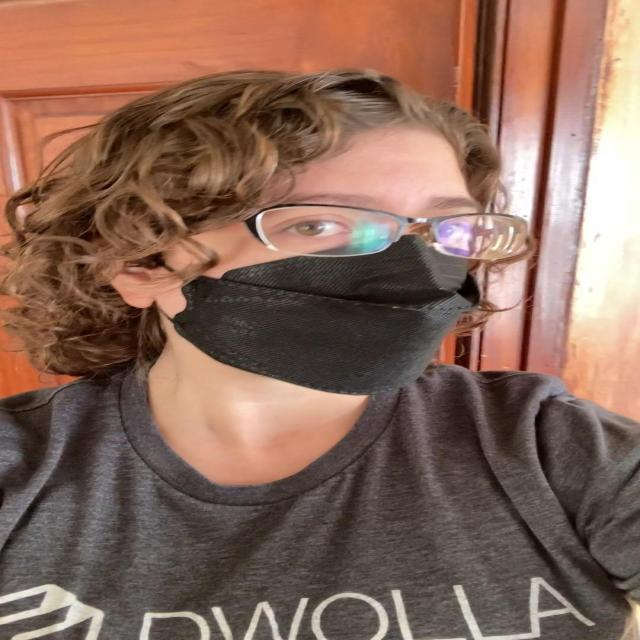no hat: (166, 126, 480, 394)
